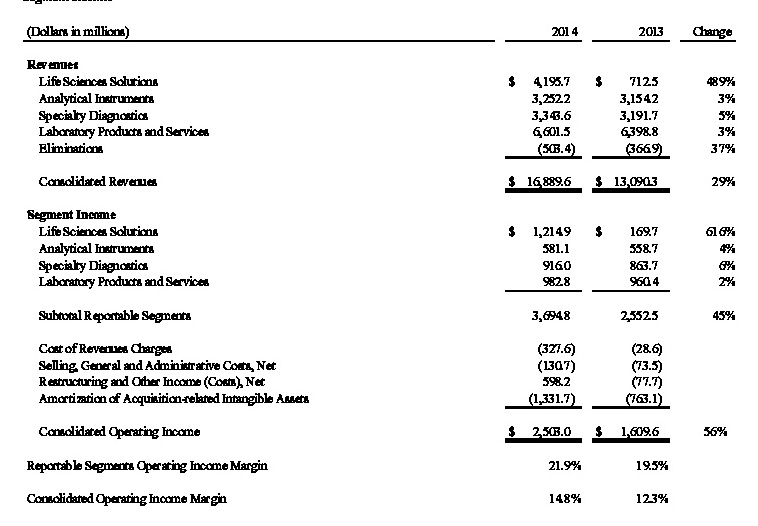table: (0, 0, 758, 526)
